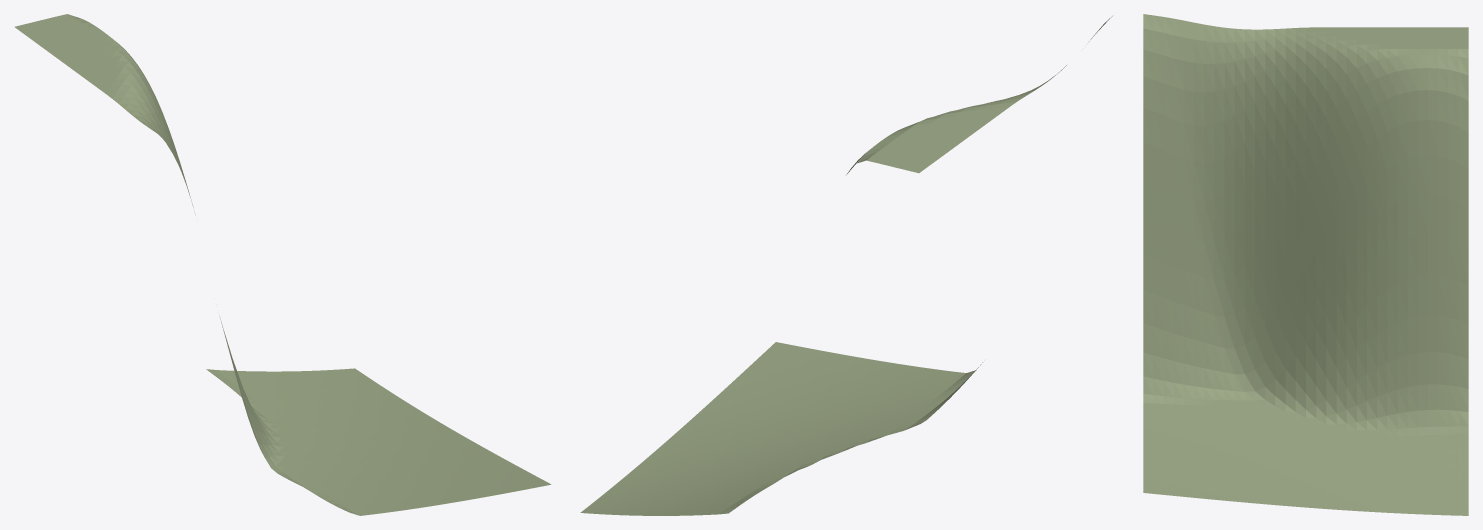
The model's file is alpine-12-3.glb.
The picture shows the model from 3 angles, left to right: view 1: azimuth 30°, elevation 25°; view 2: azimuth 150°, elevation 25°; view 3: azimuth 270°, elevation 25°; orthographic projection. The views are drawn at different scales.
Parts seen in each view (by area): view 1: alpine-12-3; view 2: alpine-12-3; view 3: alpine-12-3.
Boxes of the visible parts, box(x1,y1,x2,y2) form: alpine-12-3: box(14, 14, 551, 515); alpine-12-3: box(580, 16, 1112, 515); alpine-12-3: box(1143, 14, 1468, 515).
Bounding box in the file's own units: 256 × 316 × 256.
